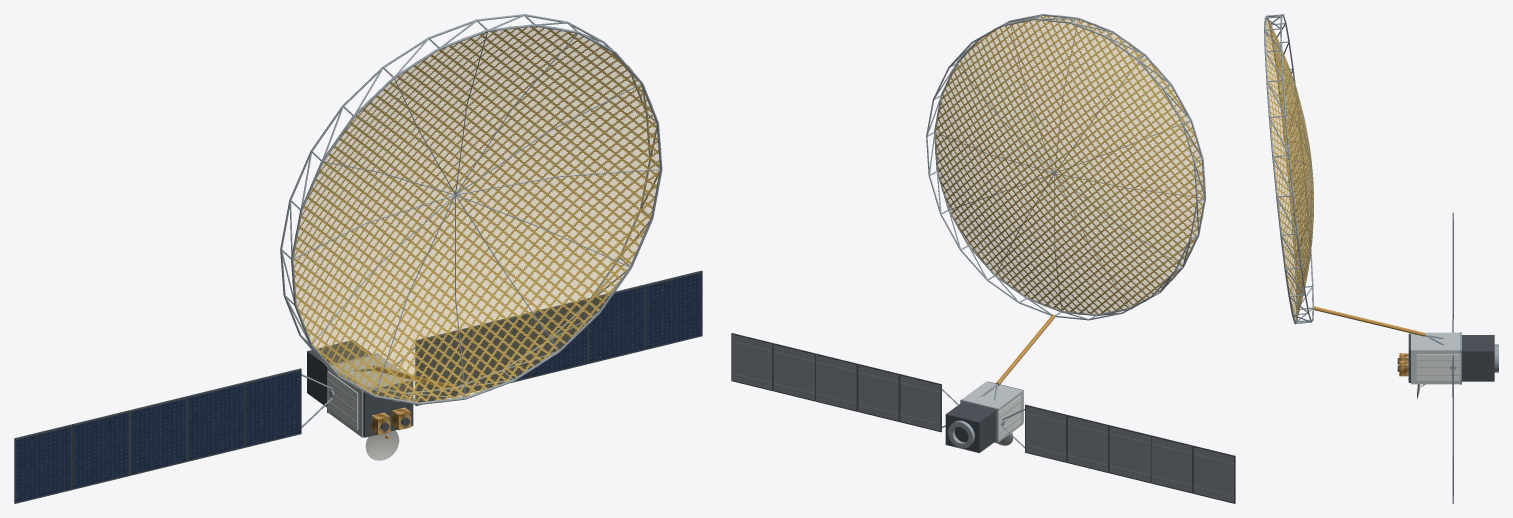
The model's file is boeing-geomobile-22m.glb.
3 views of the same model, side by side, from view 1: azimuth 30°, elevation 25°; view 2: azimuth 150°, elevation 25°; view 3: azimuth 270°, elevation 25° (orthographic). The views are drawn at different scales.
Visible parts, largest first — view 1: Deployable mesh reflector, Solar cell panel (×10), Payload module, Service module, Earth-facing deck, Radiator face, Communications reflector; view 2: Deployable mesh reflector, Rear array substrate (×10), Service module, Payload module, Radiator face; view 3: Deployable mesh reflector, Service module, Payload module, Radiator face, Reflector deployment boom.
Boxes of the visible parts, left/top/right/bottom form: Deployable mesh reflector: left=292, top=26, right=661, bottom=402; Solar cell panel (×10): left=16, top=273, right=701, bottom=502; Payload module: left=328, top=354, right=412, bottom=437; Service module: left=307, top=341, right=371, bottom=407; Earth-facing deck: left=363, top=380, right=413, bottom=437; Radiator face: left=327, top=371, right=358, bottom=430; Communications reflector: left=365, top=430, right=399, bottom=460; Deployable mesh reflector: left=935, top=15, right=1205, bottom=314; Rear array substrate (×10): left=732, top=334, right=1234, bottom=502; Service module: left=945, top=402, right=995, bottom=452; Payload module: left=962, top=381, right=1023, bottom=441; Radiator face: left=998, top=396, right=1020, bottom=439; Deployable mesh reflector: left=1265, top=16, right=1313, bottom=321; Service module: left=1462, top=335, right=1494, bottom=381; Payload module: left=1411, top=332, right=1459, bottom=384; Radiator face: left=1416, top=354, right=1460, bottom=380; Reflector deployment boom: left=1313, top=306, right=1425, bottom=336.
Size of the model in its own units: 40.97 by 29.01 by 16.68.
10 materials, 3 textured.
